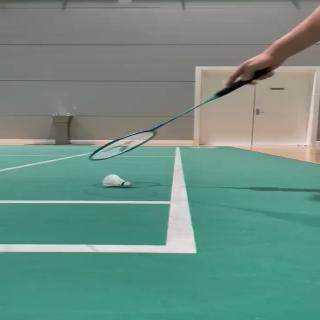Shuttle: (102, 174, 132, 188)
